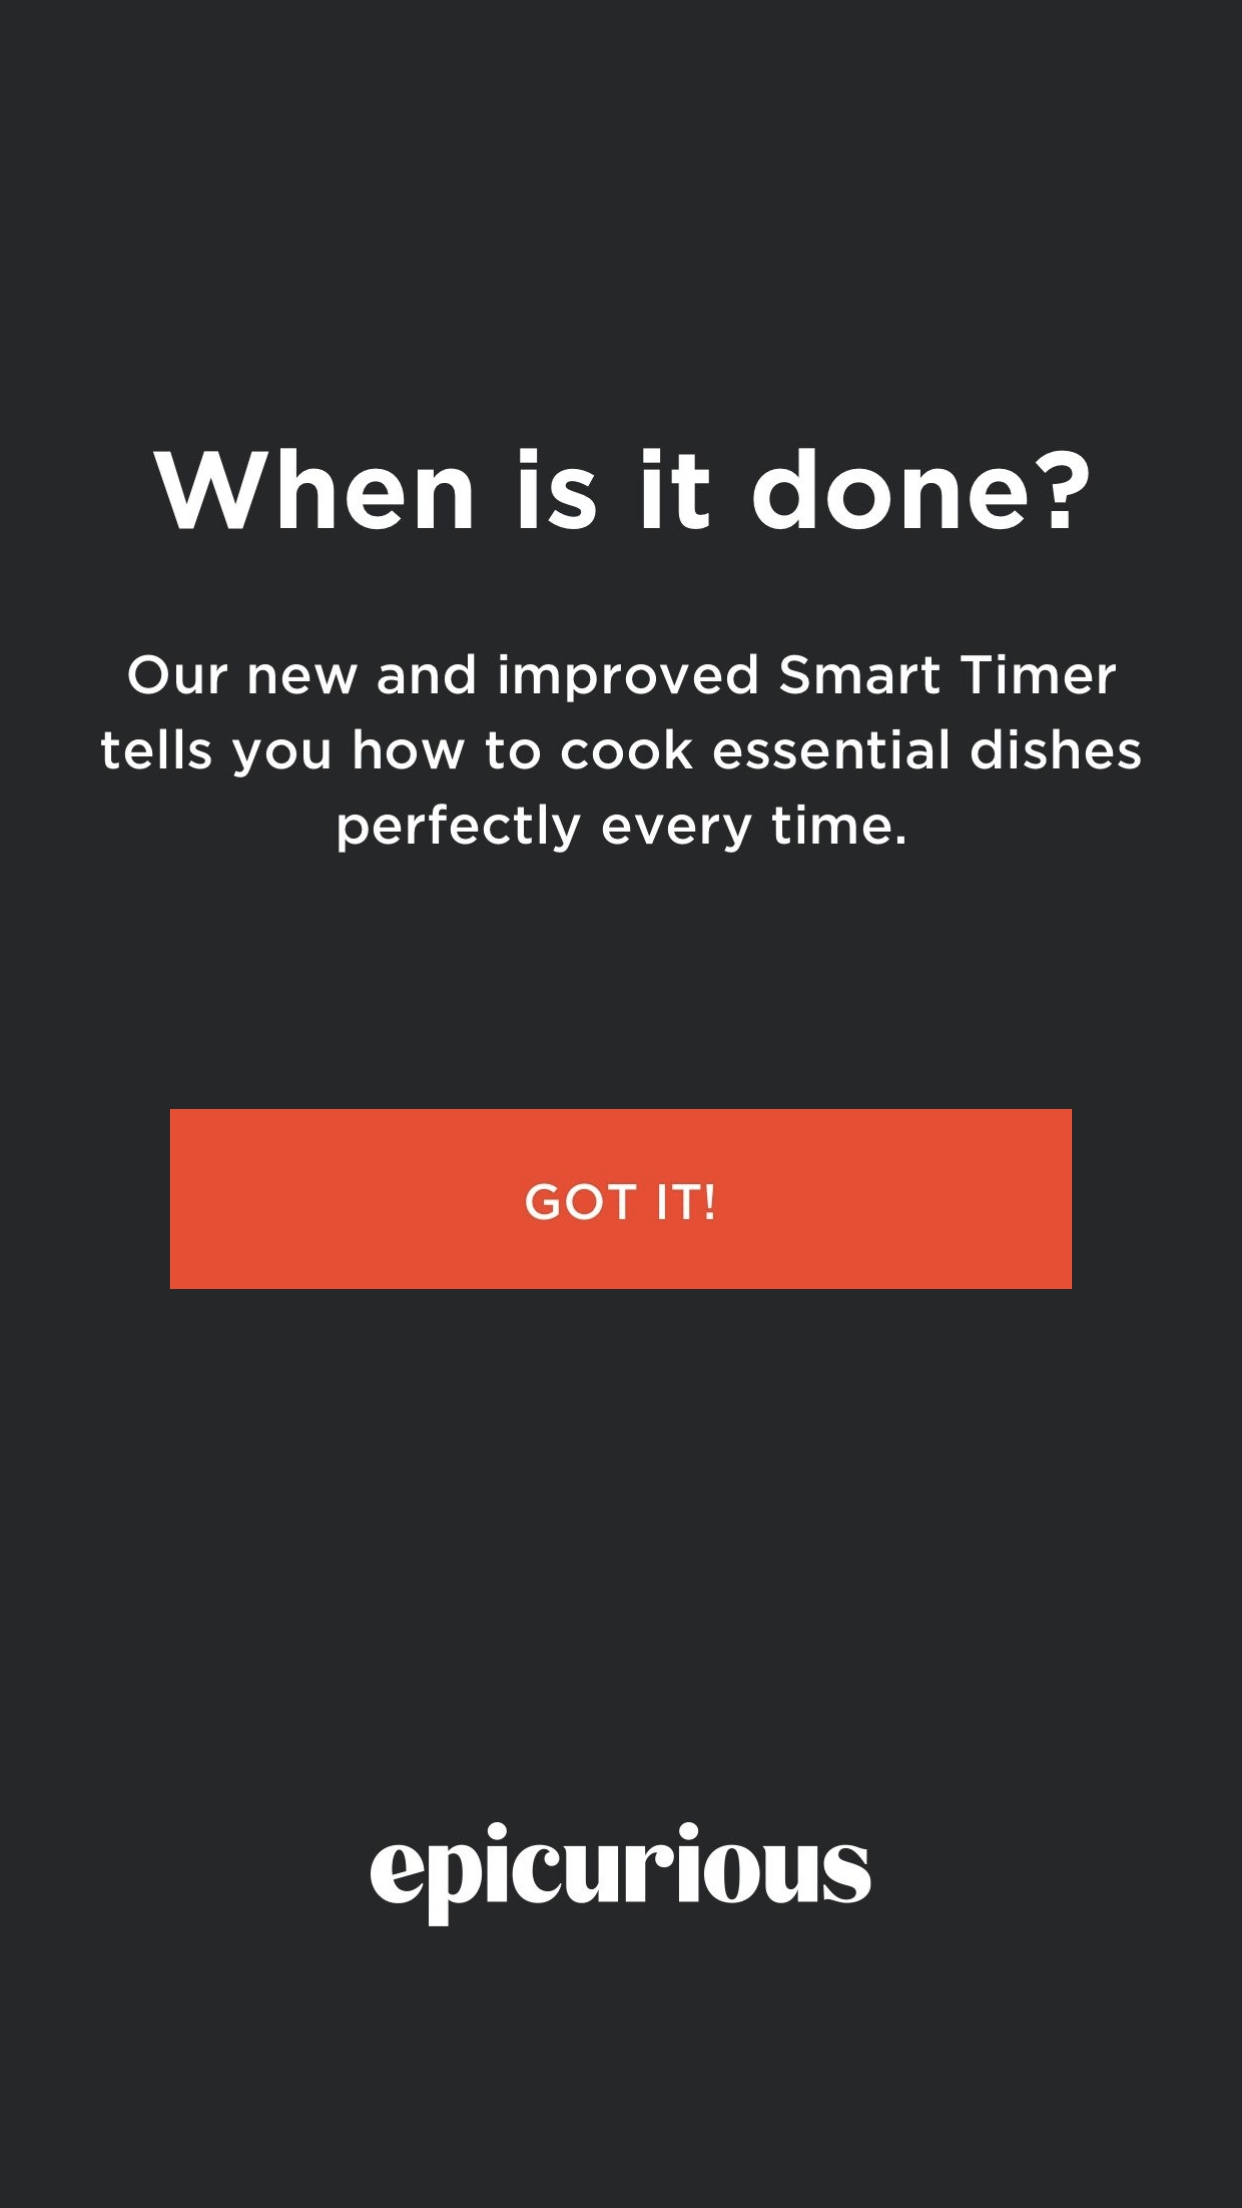Text: (102, 654, 1143, 855), (153, 447, 1090, 532), (370, 1821, 873, 1927)
TextButton: (170, 1109, 1074, 1291)
